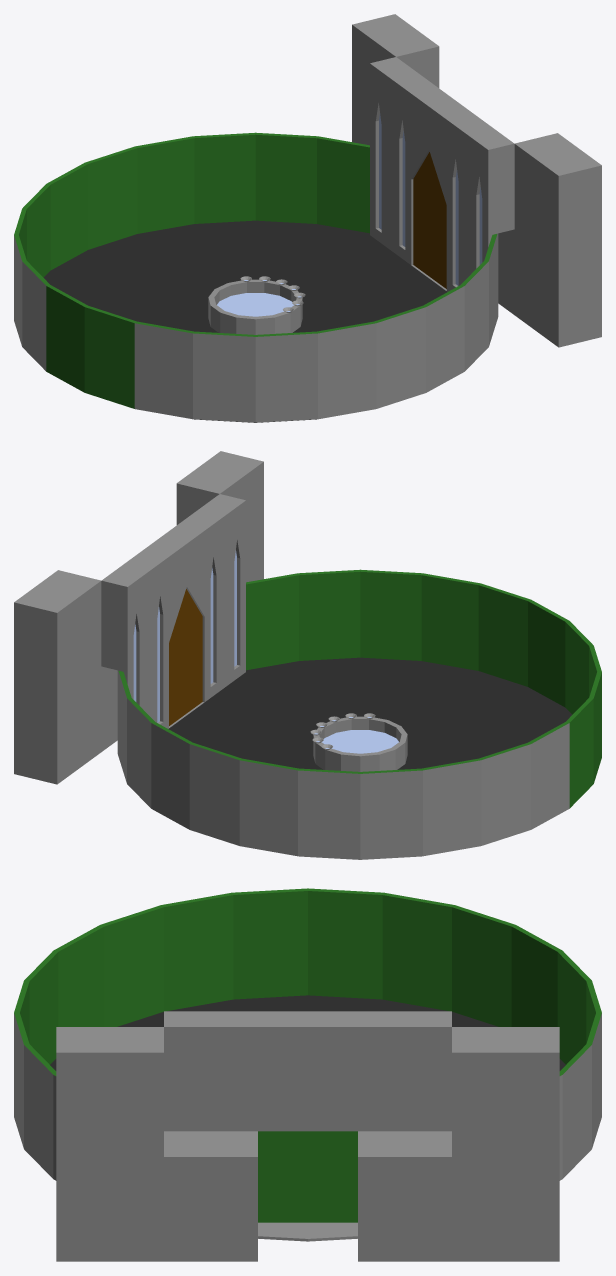
File: Courtyard2-convcolonly.glb
3 renders of one model, top to bottom at view 1: azimuth 30°, elevation 25°; view 2: azimuth 150°, elevation 25°; view 3: azimuth 270°, elevation 25°, orthographic. The views are drawn at different scales.
Visible parts, largest first — view 1: Temple Courtyard; view 2: Temple Courtyard; view 3: Temple Courtyard.
Boxes of the visible parts, x1,y1,x2,y2 form: Temple Courtyard: [14, 14, 601, 422]; Temple Courtyard: [14, 451, 601, 859]; Temple Courtyard: [14, 888, 601, 1261].
Bounding box in the file's own units: 22.05 × 8.1 × 20.4.
